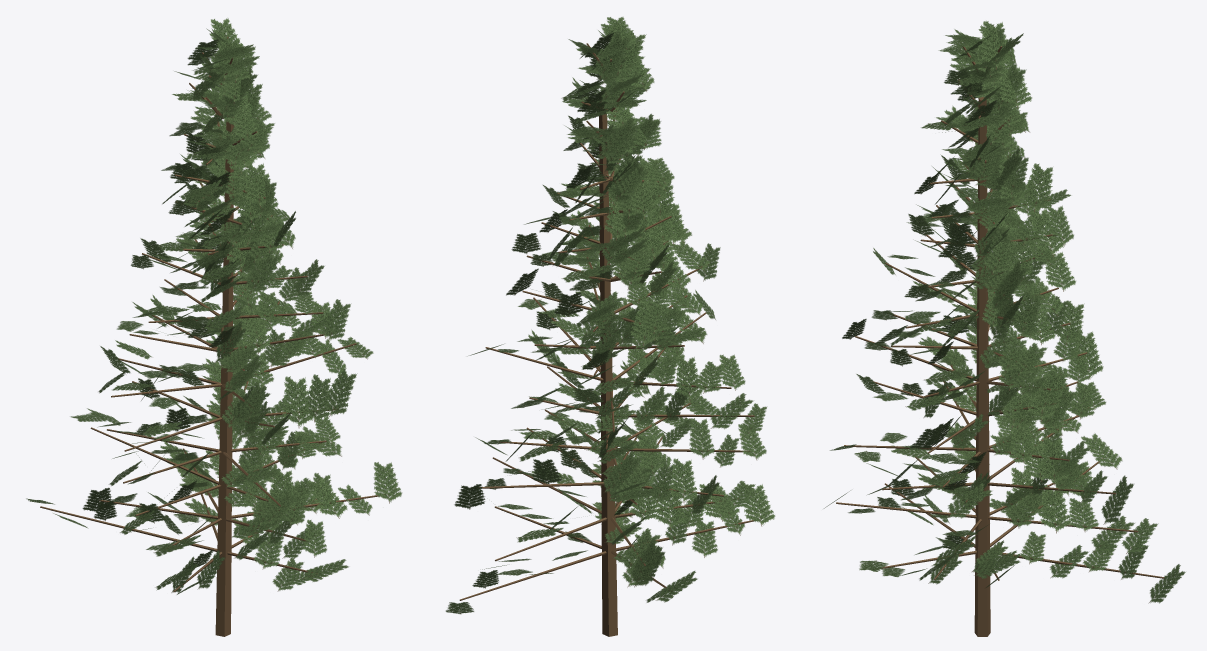
File: spruce_near.glb
3 views of the same model, side by side, from view 1: azimuth 30°, elevation 25°; view 2: azimuth 150°, elevation 25°; view 3: azimuth 270°, elevation 25° (orthographic).
Parts seen in each view (by area): view 1: spruce_near; view 2: spruce_near; view 3: spruce_near.
Part boxes in pixels (<box>): spruce_near: <box>26,18,401,636</box>; spruce_near: <box>445,17,775,636</box>; spruce_near: <box>824,21,1185,636</box>.
Bounding box in the file's own units: 7.37 × 13.62 × 7.7.
2 materials, 1 textured.
